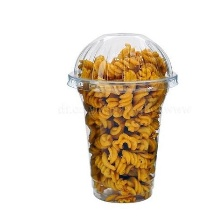glass: (64, 22, 182, 208)
